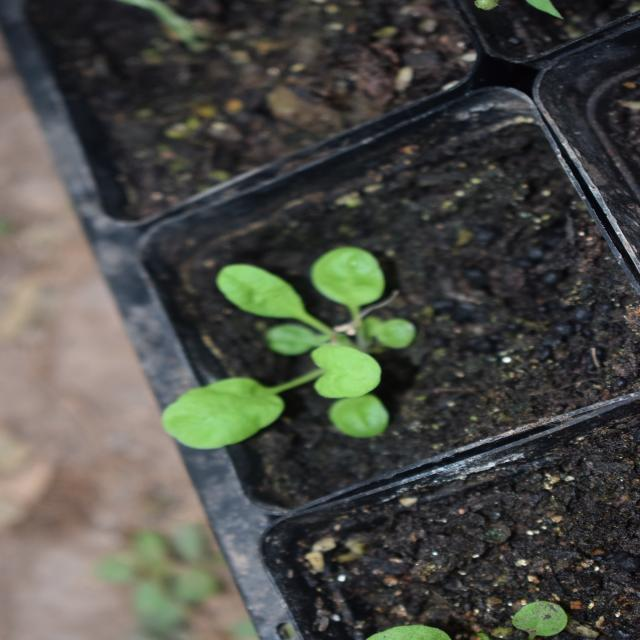Shepherd_Purse: (158, 139, 393, 382)
